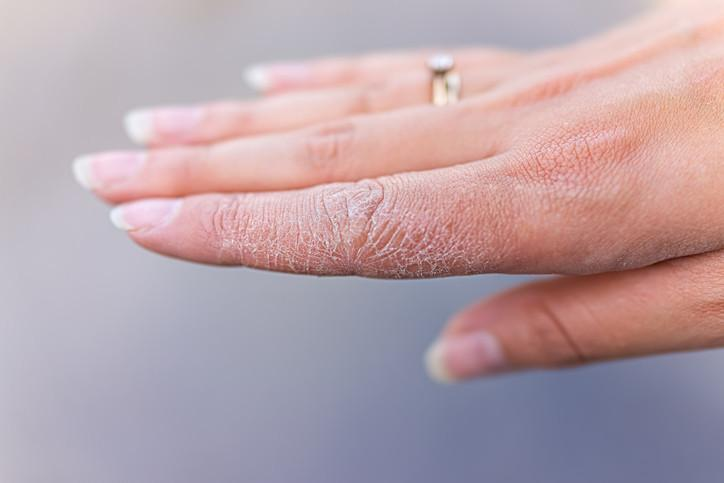Dry-Skin: (193, 210, 473, 282)
